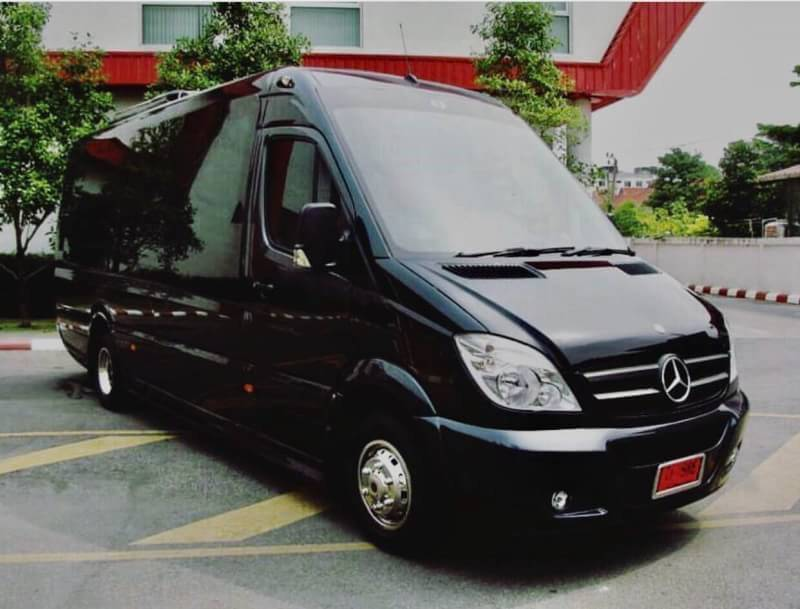van: (50, 63, 752, 557)
